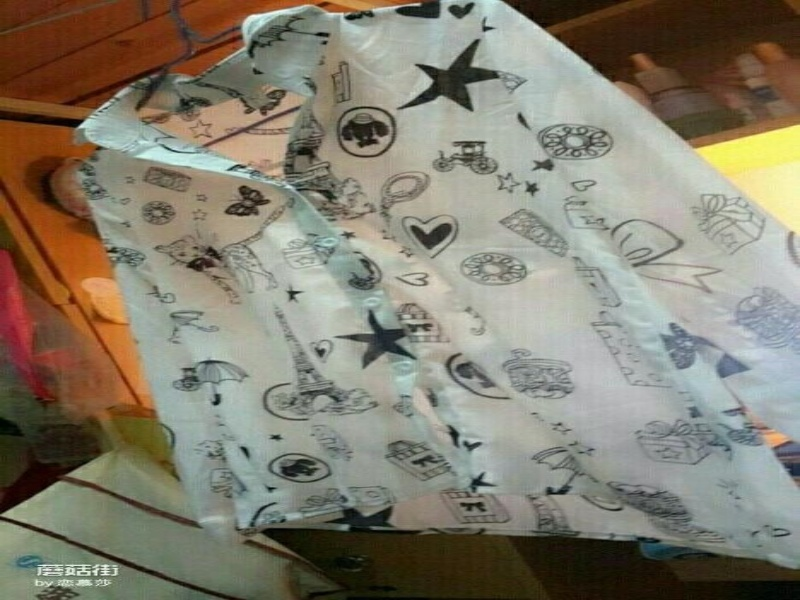long_sleeved_shirt: (68, 1, 793, 568)
